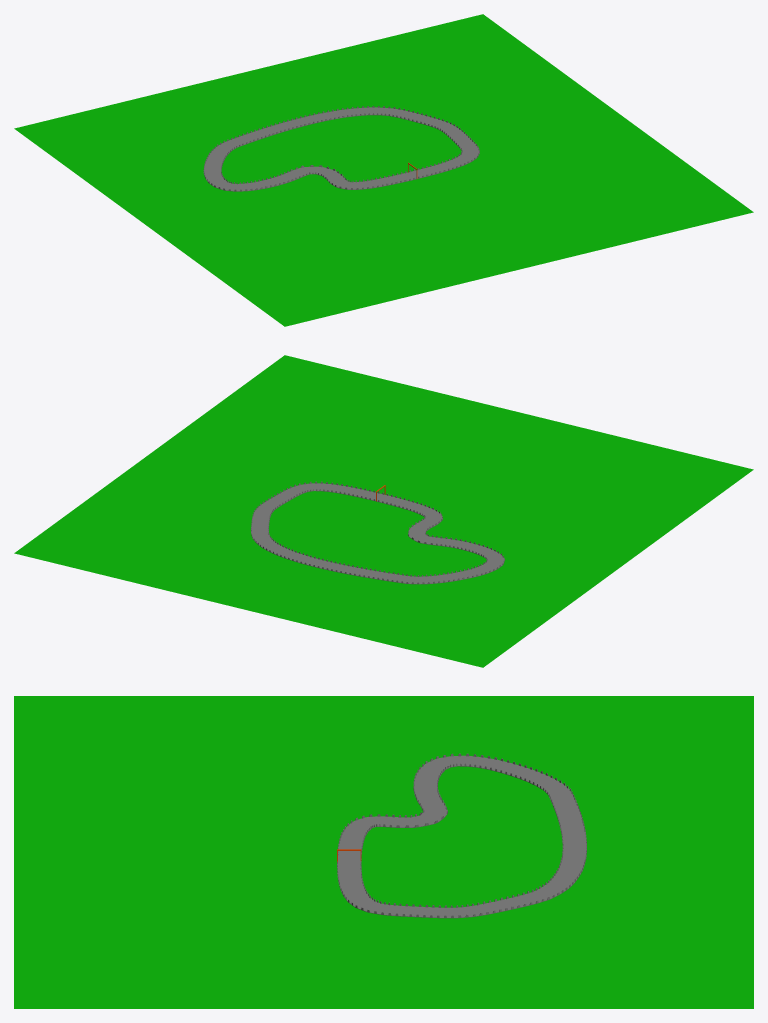
File: Track.fbx
The picture shows the model from 3 angles, top to bottom: view 1: azimuth 30°, elevation 25°; view 2: azimuth 150°, elevation 25°; view 3: azimuth 270°, elevation 25°; orthographic projection. The views are drawn at different scales.
Parts seen in each view (by area): view 1: Plane, Cube; view 2: Plane, Cube; view 3: Plane, Cube.
Boxes of the visible parts, x1,y1,x2,y2 form: Plane: (14, 14, 753, 326); Cube: (203, 106, 479, 191); Plane: (14, 355, 753, 667); Cube: (251, 481, 504, 584); Plane: (14, 696, 753, 1008); Cube: (337, 753, 586, 918).
Size of the model in its own units: 52120 by 1087 by 52120.
